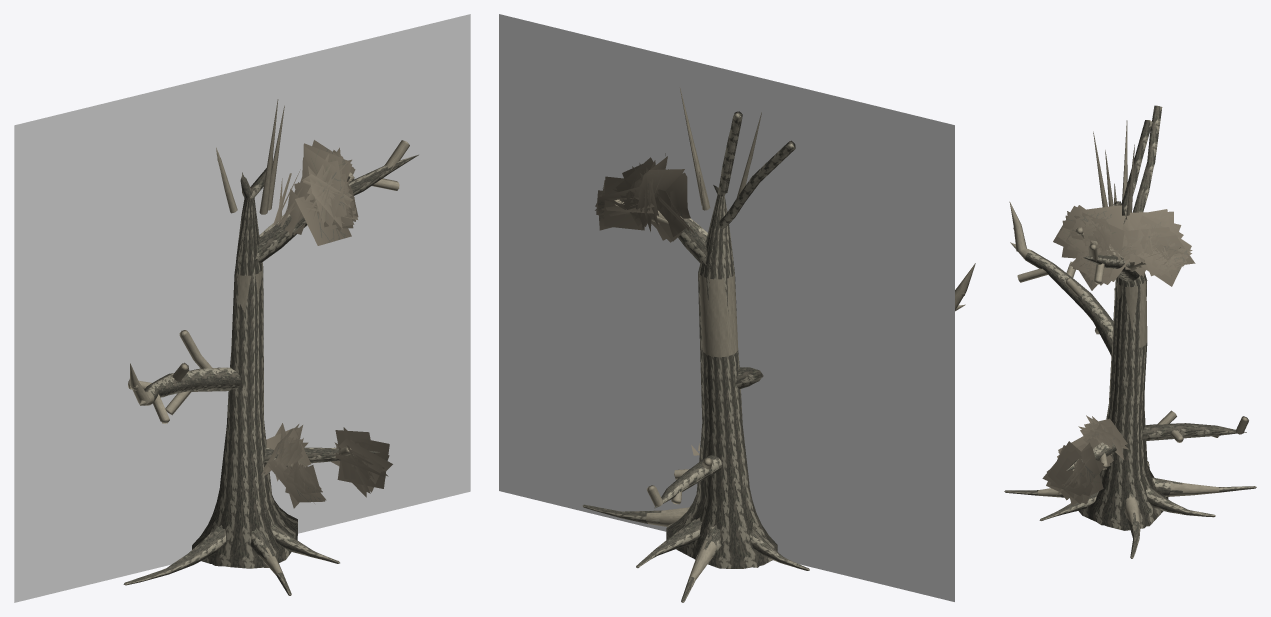
Rendered from mort_vieux_a.fbx.
The picture shows the model from 3 angles, left to right: view 1: azimuth 30°, elevation 25°; view 2: azimuth 150°, elevation 25°; view 3: azimuth 270°, elevation 25°; orthographic projection. The views are drawn at different scales.
Parts seen in each view (by area): view 1: mort_vieux_a_LOD3, mort_vieux_a_LOD2, mort_vieux_a_LOD1; view 2: mort_vieux_a_LOD3, mort_vieux_a_LOD1, mort_vieux_a_LOD2; view 3: mort_vieux_a_LOD1, mort_vieux_a_LOD2.
Boxes of the visible parts, x1=… form: mort_vieux_a_LOD3: x1=14, y1=14, x2=470, y2=602; mort_vieux_a_LOD2: x1=124, y1=100, x2=408, y2=595; mort_vieux_a_LOD1: x1=124, y1=99, x2=418, y2=595; mort_vieux_a_LOD3: x1=499, y1=14, x2=954, y2=601; mort_vieux_a_LOD1: x1=582, y1=88, x2=975, y2=602; mort_vieux_a_LOD2: x1=583, y1=90, x2=974, y2=602; mort_vieux_a_LOD1: x1=1004, y1=105, x2=1256, y2=558; mort_vieux_a_LOD2: x1=1004, y1=105, x2=1255, y2=558.
Size of what is drawn, in the model's own units: 12.93 by 12.93 by 7.37.
